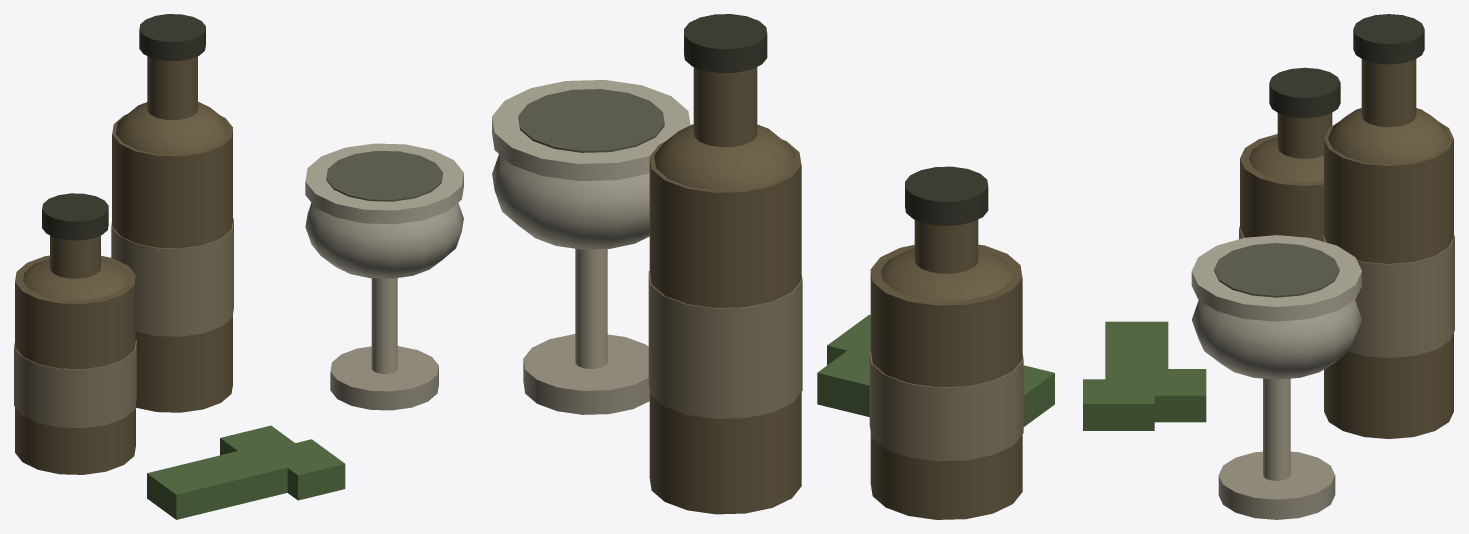
Rendered from CMU3DDecorFloorGlass3.glb.
The picture shows the model from 3 angles, left to right: view 1: azimuth 30°, elevation 25°; view 2: azimuth 150°, elevation 25°; view 3: azimuth 270°, elevation 25°; orthographic projection. The views are drawn at different scales.
Parts seen in each view (by area): view 1: discarded bottle body (×2), weathered paper label (×2), broken glass shard (×3), goblet bowl, bottle shoulder (×2), goblet rim, bottle mouth rim (×2), goblet foot, bottle neck (×2), dark goblet interior, goblet stem; view 2: discarded bottle body (×2), weathered paper label (×2), bottle shoulder (×2), goblet bowl, bottle mouth rim (×2), goblet rim, goblet foot, bottle neck (×2), dark goblet interior, broken glass shard (×3), goblet stem; view 3: discarded bottle body (×2), broken glass shard (×3), weathered paper label, goblet bowl, goblet rim, bottle shoulder (×2), bottle mouth rim (×2), goblet foot, bottle neck (×2), dark goblet interior, goblet stem.
Boxes of the visible parts, x1,y1,x2,y2 form: discarded bottle body (×2): [15, 114, 232, 474]; weathered paper label (×2): [14, 218, 233, 428]; broken glass shard (×3): [147, 425, 345, 519]; goblet bowl: [305, 202, 463, 278]; bottle shoulder (×2): [23, 102, 229, 300]; goblet rim: [305, 143, 463, 224]; bottle mouth rim (×2): [42, 14, 205, 240]; goblet foot: [330, 346, 438, 410]; bottle neck (×2): [50, 56, 197, 278]; dark goblet interior: [326, 150, 442, 201]; goblet stem: [371, 278, 397, 373]; discarded bottle body (×2): [649, 139, 1022, 519]; weathered paper label (×2): [648, 271, 1023, 461]; bottle shoulder (×2): [654, 124, 1012, 301]; goblet bowl: [492, 154, 649, 249]; bottle mouth rim (×2): [684, 14, 988, 225]; goblet rim: [492, 80, 690, 181]; goblet foot: [523, 334, 649, 414]; bottle neck (×2): [693, 67, 978, 273]; dark goblet interior: [518, 89, 664, 152]; broken glass shard (×3): [817, 314, 1054, 426]; goblet stem: [575, 248, 607, 368]; discarded bottle body (×2): [1240, 123, 1453, 438]; broken glass shard (×3): [1083, 321, 1206, 430]; weathered paper label: [1323, 235, 1454, 357]; goblet bowl: [1192, 300, 1361, 379]; goblet rim: [1191, 235, 1361, 321]; bottle shoulder (×2): [1248, 108, 1449, 182]; bottle mouth rim (×2): [1269, 14, 1424, 118]; goblet foot: [1218, 451, 1335, 519]; bottle neck (×2): [1277, 59, 1416, 158]; dark goblet interior: [1214, 243, 1339, 297]; goblet stem: [1263, 378, 1290, 480].
Bounding box in the file's own units: 0.5748 × 0.4758 × 0.4148.
